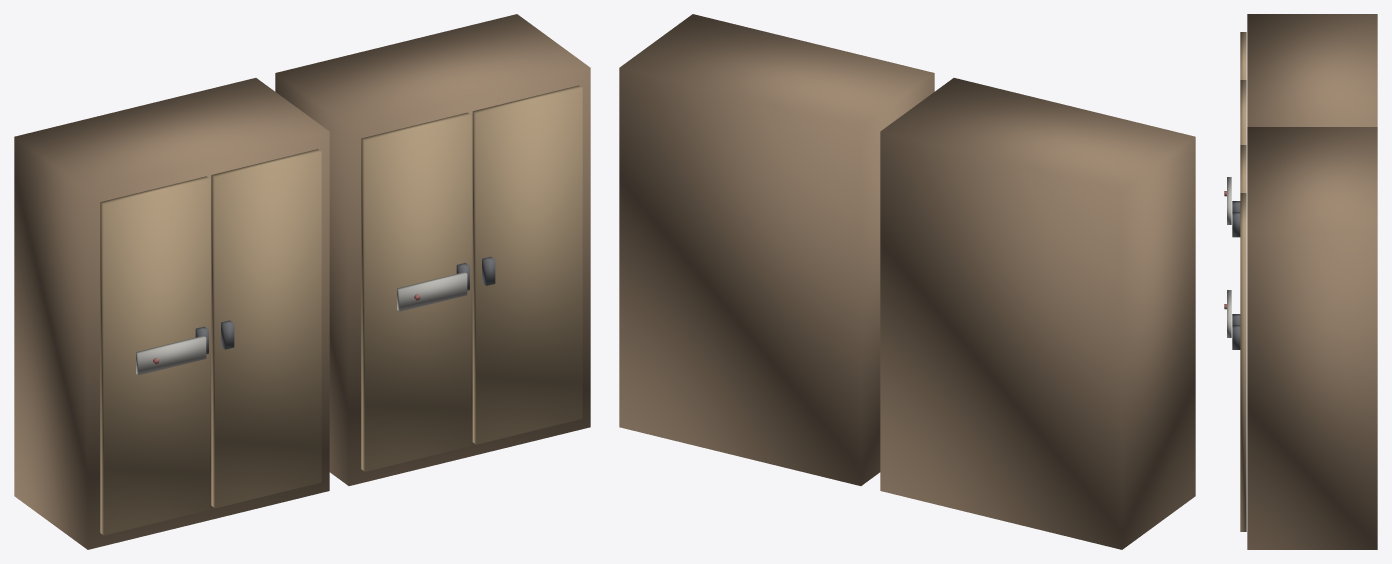
File: case_file_cabinet__cluster.glb
3 renders of one model, left to right at view 1: azimuth 30°, elevation 25°; view 2: azimuth 150°, elevation 25°; view 3: azimuth 270°, elevation 25°, orthographic. The views are drawn at different scales.
Parts seen in each view (by area): view 1: world; view 2: world; view 3: world.
Boxes of the visible parts, x1,y1,x2,y2 form: world: (14, 14, 590, 549); world: (619, 14, 1195, 549); world: (1224, 14, 1377, 549).
Bounding box in the file's own units: 1.98 × 1.35 × 0.5885.
